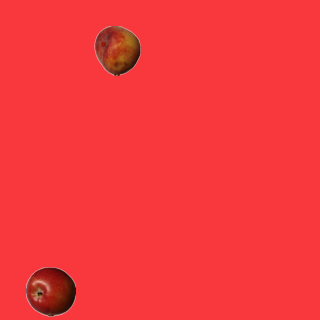Apple Braeburn: (25, 266, 75, 316)
Peach: (92, 25, 142, 75)
